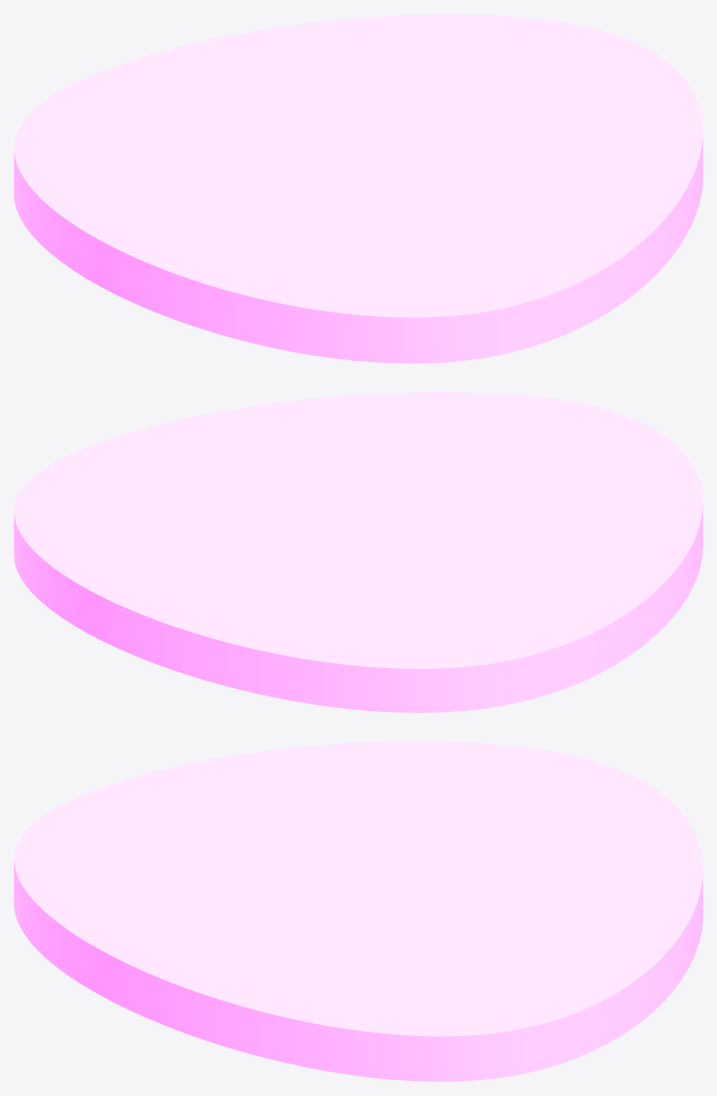
Rendered from ev_2022_2_01_haji1_2243.glb.
3 views of the same model, one above another, from view 1: azimuth 30°, elevation 25°; view 2: azimuth 150°, elevation 25°; view 3: azimuth 270°, elevation 25° (orthographic). The views are drawn at different scales.
Parts seen in each view (by area): view 1: root; view 2: root; view 3: root.
Part boxes in pixels (x1,y1,x2,y2): root: [14, 14, 702, 363]; root: [14, 392, 702, 712]; root: [14, 741, 702, 1081].
Size of what is drawn, in the model's own units: 1.39 by 0.1 by 1.38.
